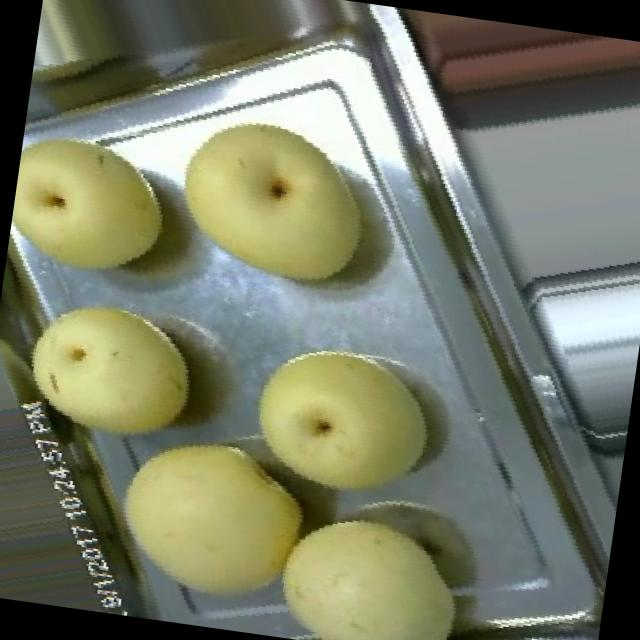Fruit: (82, 398, 337, 640), (143, 81, 399, 315), (217, 313, 462, 528), (0, 271, 225, 476), (354, 4, 640, 152), (3, 103, 194, 303), (255, 485, 485, 640)
